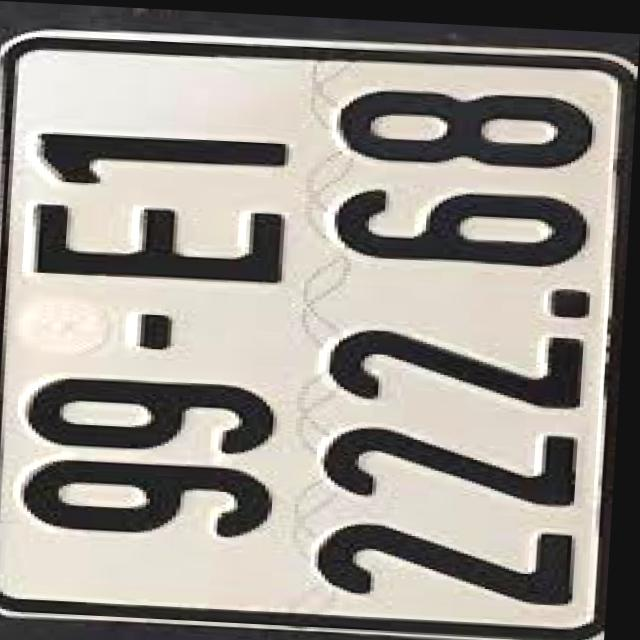a: (0, 22, 637, 640)
bien so: (0, 13, 618, 640)
